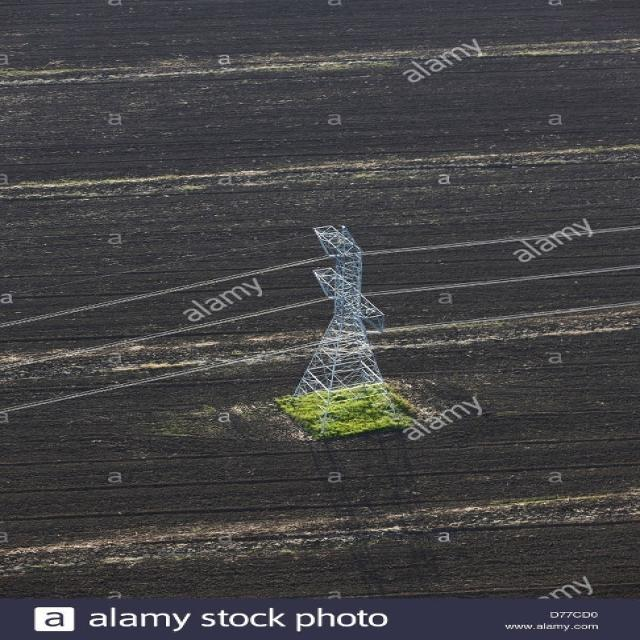non-critical vegetation: (253, 219, 416, 446)
